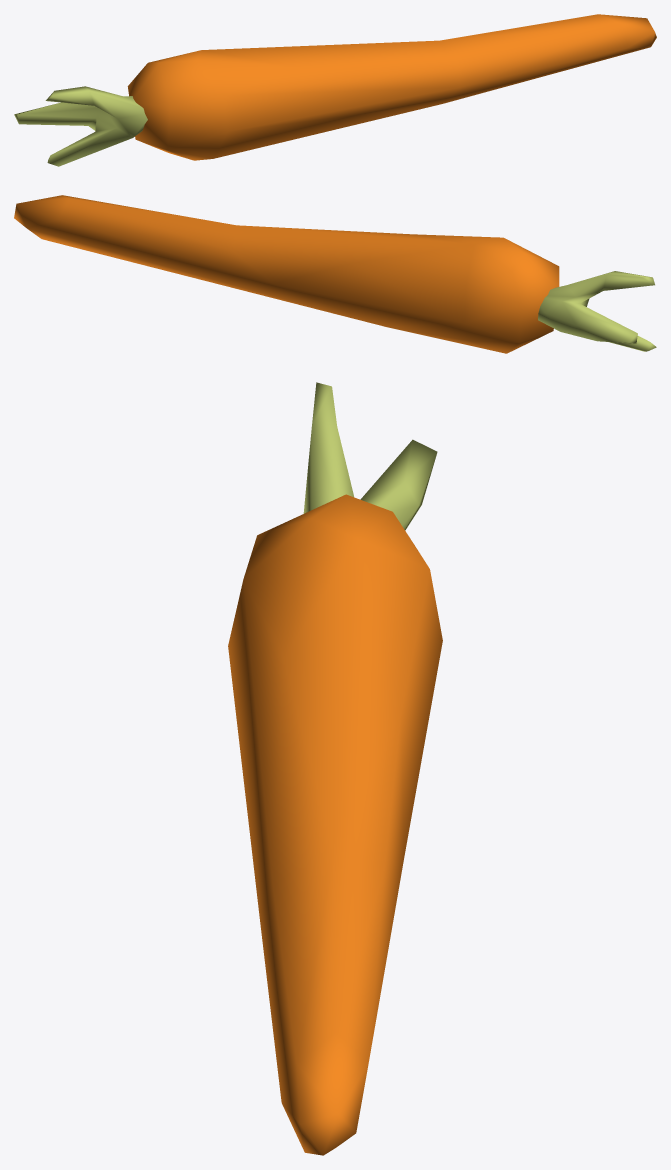
The model's file is Shelves_Assets_Fruit&Vegetable_Wortel.fbx.
3 views of the same model, one above another, from view 1: azimuth 30°, elevation 25°; view 2: azimuth 150°, elevation 25°; view 3: azimuth 270°, elevation 25° (orthographic). The views are drawn at different scales.
Visible parts, largest first — view 1: Shelves_Assets_Fruit&Vegetable_Wortel; view 2: Shelves_Assets_Fruit&Vegetable_Wortel; view 3: Shelves_Assets_Fruit&Vegetable_Wortel.
Part boxes in pixels (<box>): Shelves_Assets_Fruit&Vegetable_Wortel: <box>14,14,656,166</box>; Shelves_Assets_Fruit&Vegetable_Wortel: <box>14,195,656,353</box>; Shelves_Assets_Fruit&Vegetable_Wortel: <box>228,382,442,1155</box>.
Bounding box in the file's own units: 47.54 × 7.58 × 7.17.
